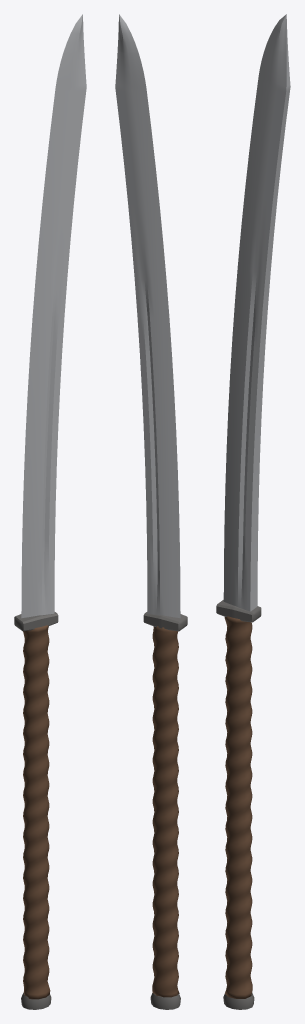
File: rhomphaia.glb
The picture shows the model from 3 angles, left to right: view 1: azimuth 30°, elevation 25°; view 2: azimuth 150°, elevation 25°; view 3: azimuth 330°, elevation 25°; orthographic projection. The views are drawn at different scales.
Parts seen in each view (by area): view 1: rhomphaia; view 2: rhomphaia; view 3: rhomphaia.
Boxes of the visible parts, x1=… form: rhomphaia: x1=14, y1=14, x2=86, y2=1009; rhomphaia: x1=115, y1=14, x2=187, y2=1009; rhomphaia: x1=216, y1=14, x2=290, y2=1009.
Bounding box in the file's own units: 0.2159 × 3.02 × 0.075.
